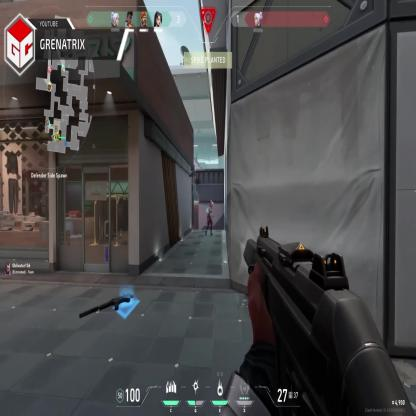enemy: (205, 198, 214, 233)
enemy_head: (210, 200, 214, 207)
